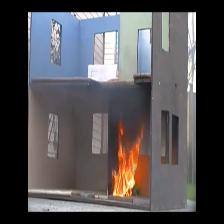fire: (113, 131, 142, 195)
smoke: (114, 86, 146, 114)
